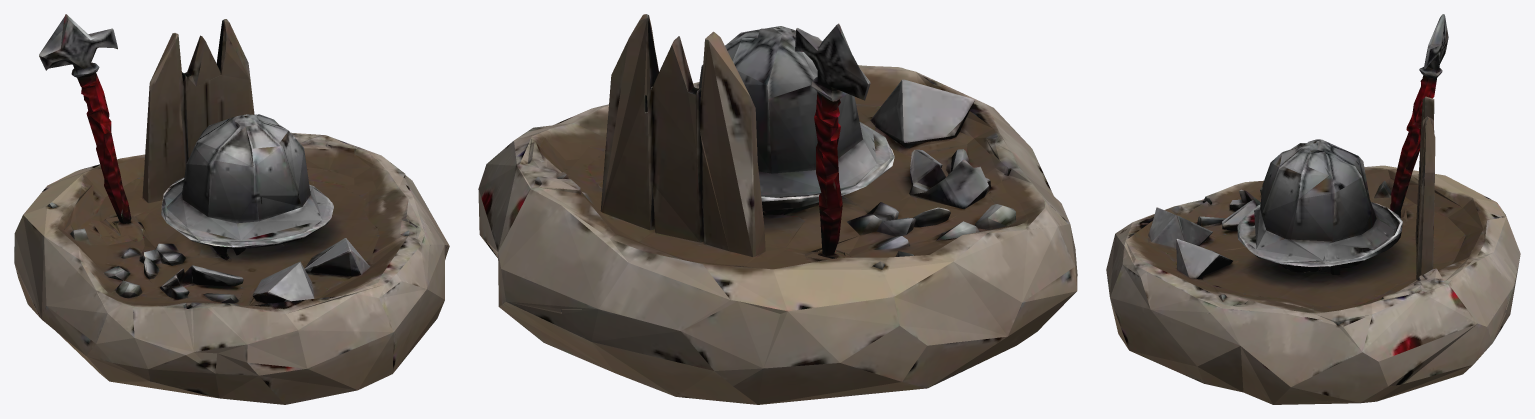
File: field_grave_mound_01.glb
3 views of the same model, side by side, from view 1: azimuth 30°, elevation 25°; view 2: azimuth 150°, elevation 25°; view 3: azimuth 270°, elevation 25° (orthographic). The views are drawn at different scales.
Visible parts, largest first — view 1: geometry_0; view 2: geometry_0; view 3: geometry_0.
Boxes of the visible parts, bbox=[...] form: geometry_0: bbox=[14, 14, 449, 404]; geometry_0: bbox=[478, 14, 1077, 404]; geometry_0: bbox=[1106, 14, 1520, 404].
Size of the model in its own units: 0.9957 by 0.7293 by 0.9892.
1 material, 1 textured.
